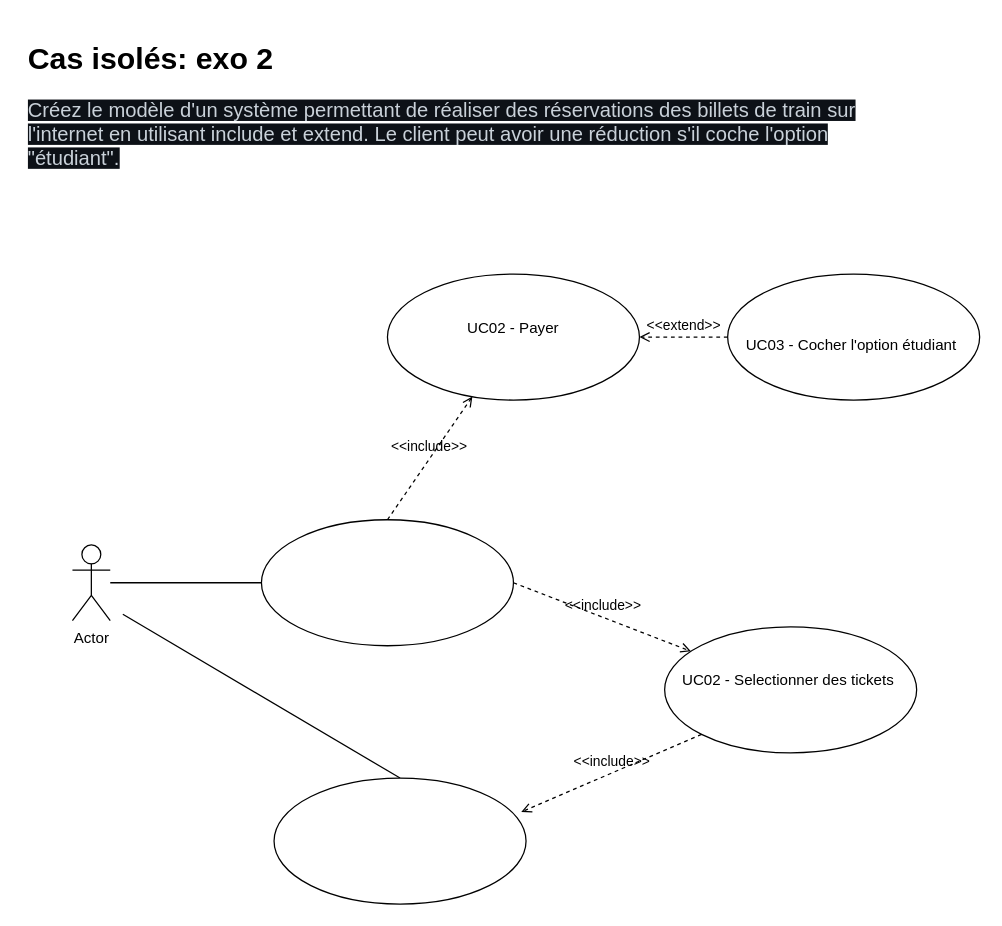
This 1002x926 diagram has some shape labels left out. The centre of each missing label's shape, as x and y in pixels:
UC01 - Réaliser la réservation: point (386, 582)
UC02 - Rechercher: point (399, 840)
